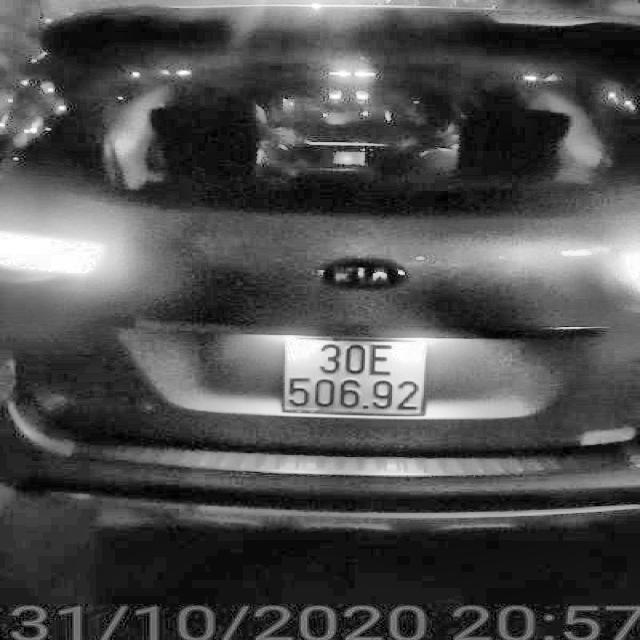plate: (268, 326, 436, 422)
